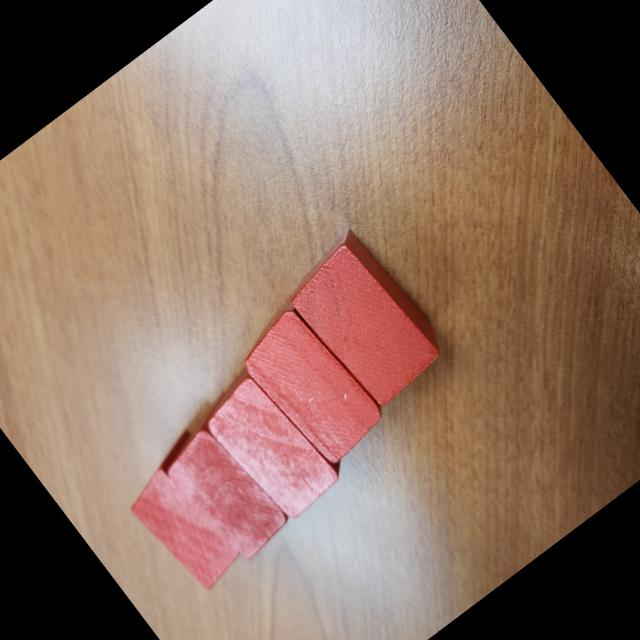red: (276, 222, 456, 414), (226, 291, 396, 475), (149, 393, 315, 569), (190, 357, 350, 530), (112, 428, 273, 598)
